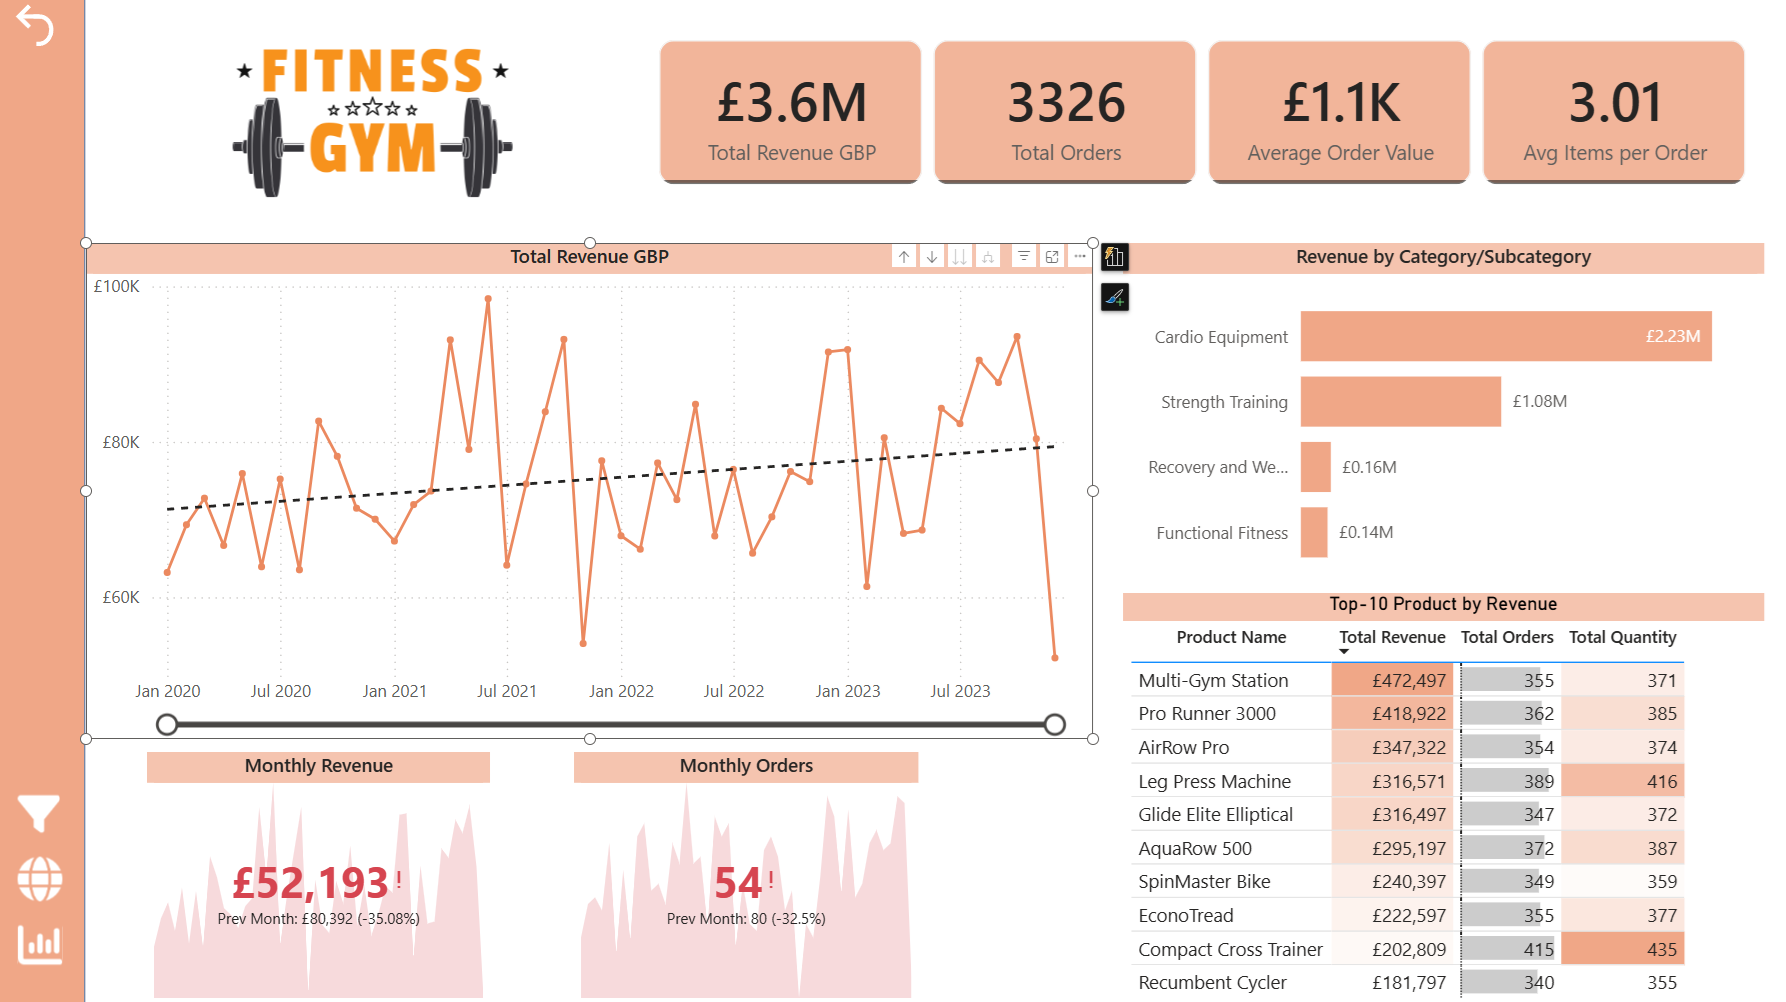

Layout of this report page (visuals, bound fields, positions):
{"tool":"powerbi","page":{"name":"Page 1","canvas":[1280,720],"ordinal":0},"visuals":[{"type":"cardVisual","fields":{"Data":["Table Measures.Total Revenue GBP","Table Measures.Total Orders","Table Measures.Average Order Value","Table Measures.Avg Items per Order"]},"box":[467.7,25.4,789.2,113.1],"z":0},{"type":"lineChart","fields":{"Category":["date.date.Variation.Date Hierarchy.Year","date.date.Variation.Date Hierarchy.Quarter","date.date.Variation.Date Hierarchy.Month"],"Y":["Table Measures.Total Revenue GBP"]},"box":[63.6,175.5,719.1,354.5],"z":1000},{"type":"barChart","title":"Revenue by Category/Subcategory","fields":{"Category":["products.category_name Hierarchy.category_name","products.category_name Hierarchy.subcategory_name","date.date"],"Y":["Table Measures.Total Revenue GBP"]},"box":[804.6,175.6,457.8,249.8],"z":2000},{"type":"kpi","title":"Monthly Revenue","fields":{"Goal":["Table Measures.Previous Month Revenue"],"Indicator":["Table Measures.Total Revenue GBP"],"TrendLine":["date.Start of Month"]},"box":[107.3,539.3,245.4,180.8],"z":3000},{"type":"kpi","title":"Monthly Orders","fields":{"Goal":["Table Measures.Previous Month Orders"],"Indicator":["Table Measures.Total Orders"],"TrendLine":["date.Start of Month"]},"box":[412.2,539.3,246.2,180.8],"z":4000},{"type":"tableEx","title":"Top-10 Product by Revenue","fields":{"Values":["products.product_name","Table Measures.Total Revenue GBP","Table Measures.Total Orders","Table Measures.Total Quantity"]},"box":[804.6,425.4,457.8,294.6],"z":5000},{"type":"image","box":[94.6,0,347.7,175.4],"z":6000},{"type":"shape","box":[0,0,63.5,720.1],"z":7000},{"type":"actionButton","box":[7.3,0,100,40],"z":8000},{"type":"actionButton","title":"Open sel","box":[10.8,564.6,40.8,38.5],"z":9000},{"type":"actionButton","box":[10.8,610,40.8,40],"z":11000},{"type":"actionButton","box":[10.8,656.9,40.8,40],"z":12000}]}

Visuals, with their boxes on the page's 1280x720 design canvas (x1, y1, x2, y2). These are canvas units, not pixel positions in the 1786x1002 screenshot, which may show the page scaled, cropped or inside an application window:
cardVisual - Table Measures.Total Revenue GBP x Table Measures.Total Orders: [x1=468, y1=25, x2=1257, y2=138]
lineChart - date.date.Variation.Date Hierarchy.Year x date.date.Variation.Date Hierarchy.Quarter: [x1=64, y1=176, x2=783, y2=530]
"Revenue by Category/Subcategory" barChart: [x1=805, y1=176, x2=1262, y2=425]
"Monthly Revenue" kpi: [x1=107, y1=539, x2=353, y2=720]
"Monthly Orders" kpi: [x1=412, y1=539, x2=658, y2=720]
"Top-10 Product by Revenue" tableEx: [x1=805, y1=425, x2=1262, y2=720]
image: [x1=95, y1=0, x2=442, y2=175]
shape: [x1=0, y1=0, x2=64, y2=720]
actionButton: [x1=7, y1=0, x2=107, y2=40]
"Open sel" actionButton: [x1=11, y1=565, x2=52, y2=603]
actionButton: [x1=11, y1=610, x2=52, y2=650]
actionButton: [x1=11, y1=657, x2=52, y2=697]
